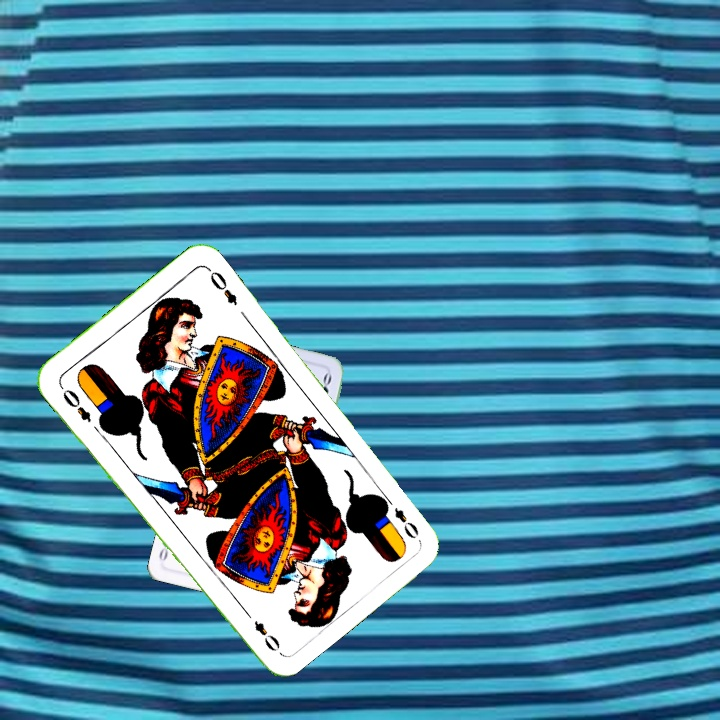EO: (379, 492, 422, 542), (55, 381, 94, 425)
